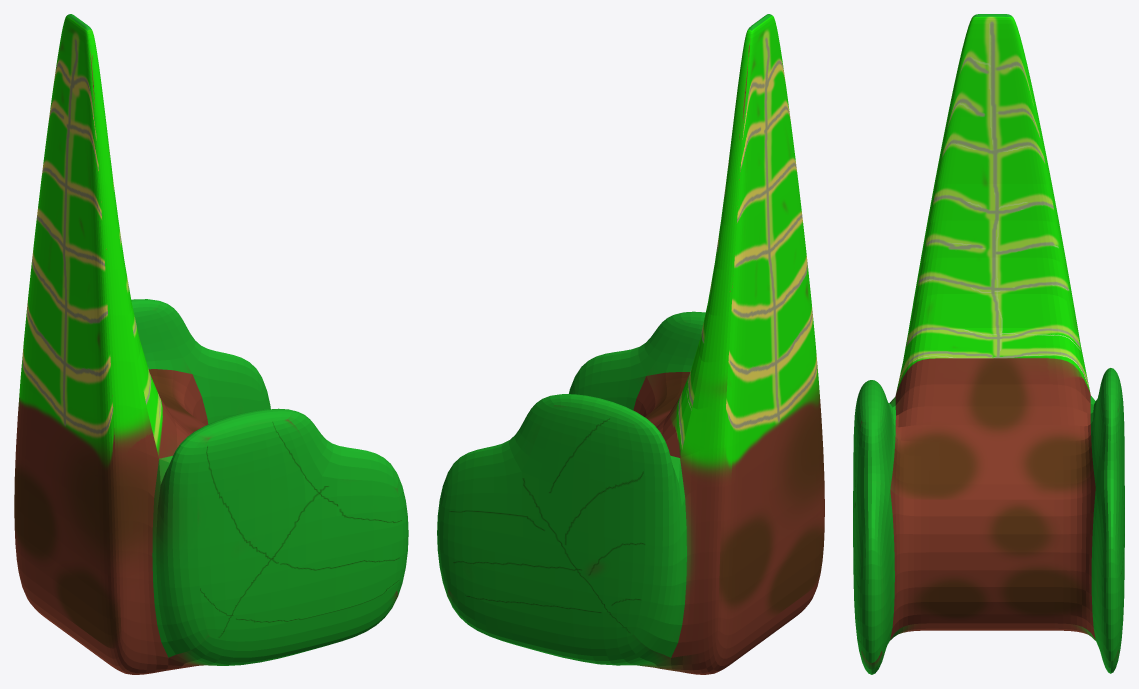
File: Kings chair.fbx
The picture shows the model from 3 angles, left to right: view 1: azimuth 30°, elevation 25°; view 2: azimuth 150°, elevation 25°; view 3: azimuth 270°, elevation 25°; orthographic projection. The views are drawn at different scales.
Parts seen in each view (by area): view 1: Cube; view 2: Cube; view 3: Cube.
Boxes of the visible parts, bbox=[...] form: Cube: bbox=[14, 14, 408, 674]; Cube: bbox=[437, 14, 824, 674]; Cube: bbox=[853, 14, 1124, 674].
Bounding box in the file's own units: 287 × 618 × 266.
Materials: 1 (1 with a texture image).
